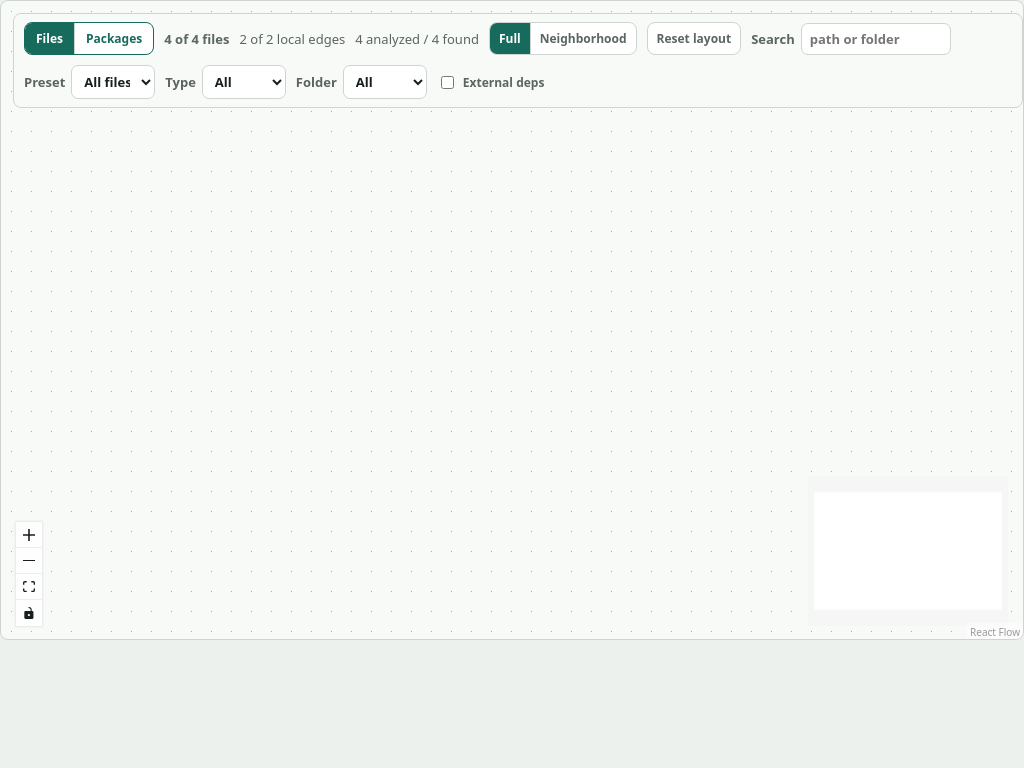
Test: GraphCanvas › filters graph nodes by preset
The image size is (1024, 768).
Select "Hide tests" in the dropdown named "Filter graph by preset" at (113, 82), box x1=71 y1=65 x2=155 y2=99
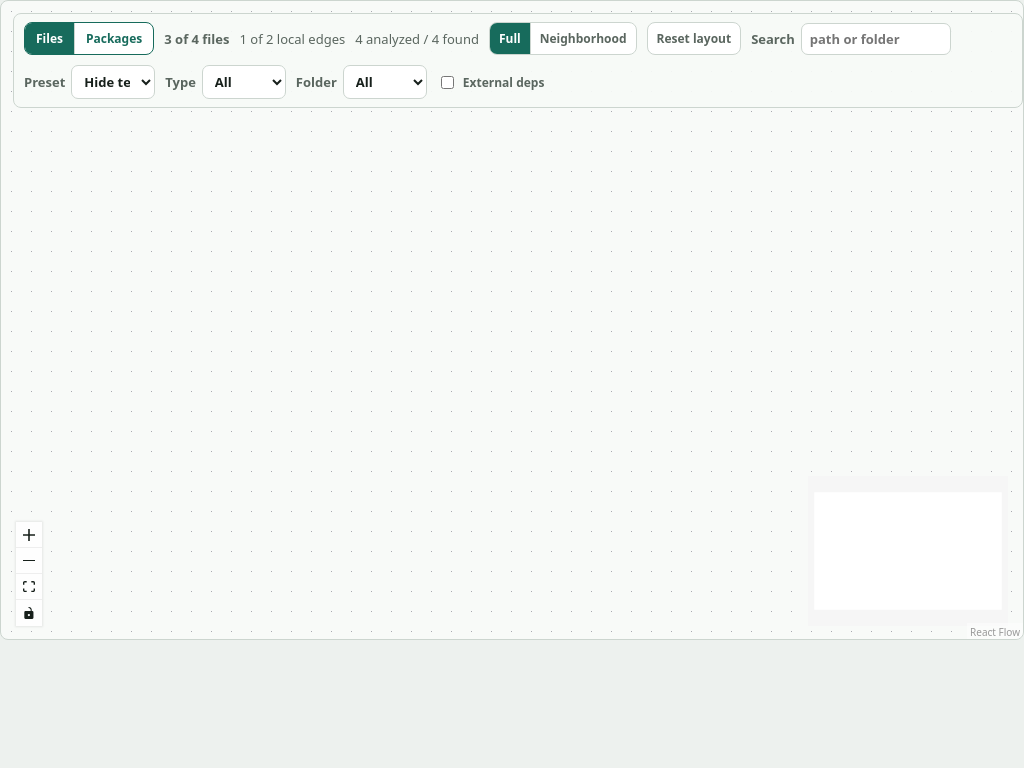
Expected: the text "3 of 4 files" is shown, x1=164 y1=30 x2=230 y2=48
Select "Issues" in the dropdown named "Filter graph by preset" at (113, 82), box x1=71 y1=65 x2=155 y2=99
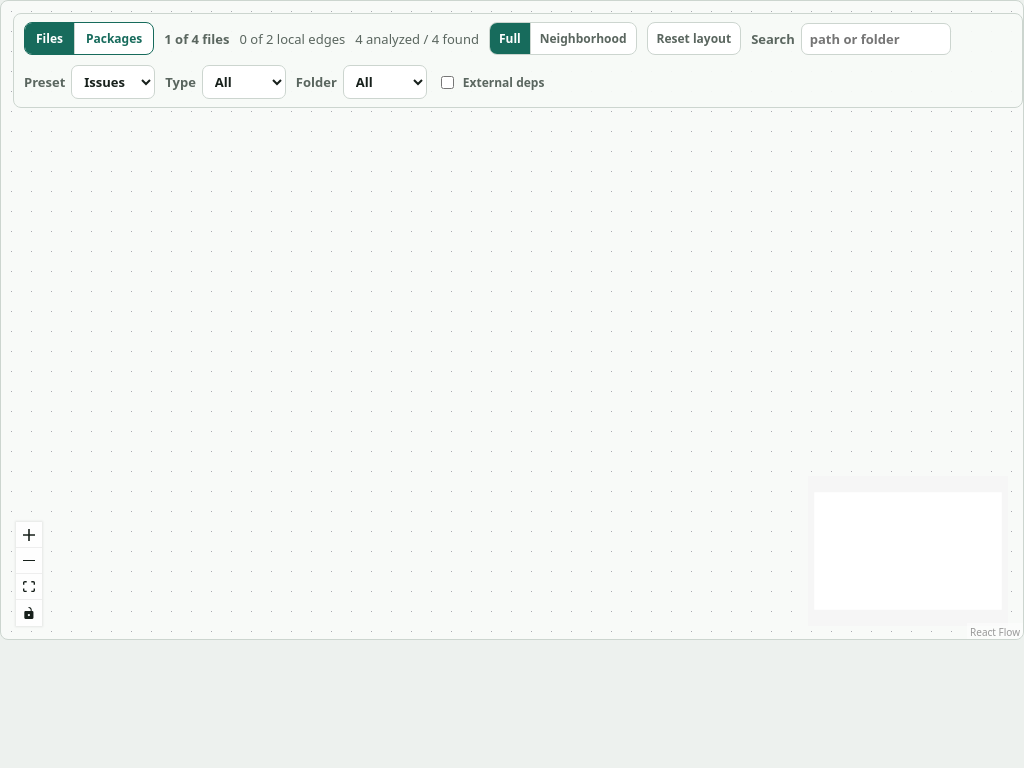
Expected: the text "1 of 4 files" is shown, x1=164 y1=30 x2=230 y2=48
